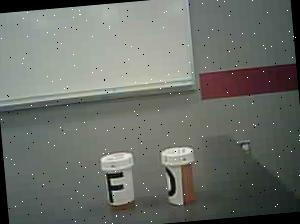Bottle D: (156, 142, 202, 212)
Bottle F: (94, 150, 144, 217)
